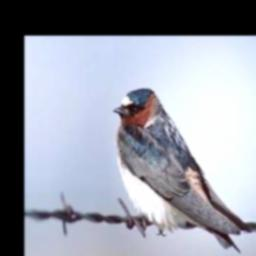Swallow: (115, 87, 252, 256)
